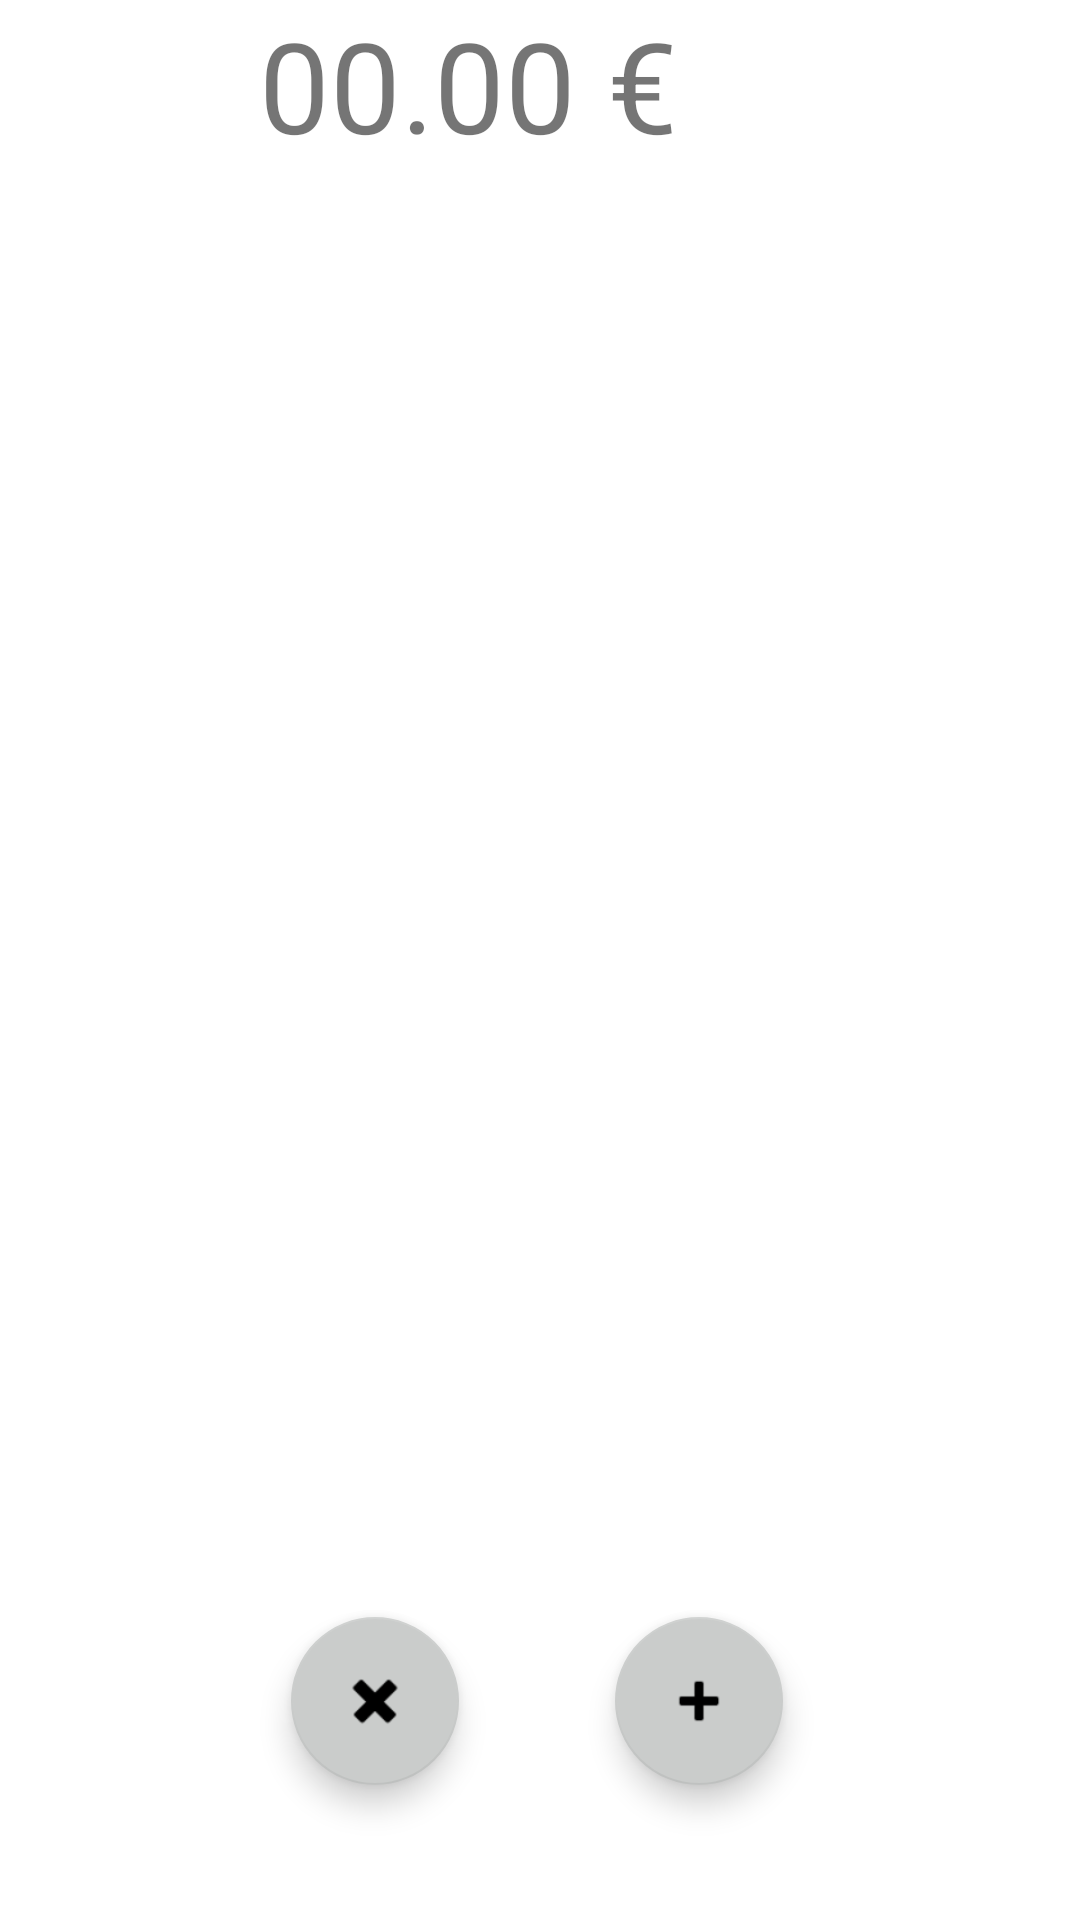

Point at icon controls on the screen. Image size 1080w x 1920h, points as (x,y).
add: (699,1701)
delete: (375,1701)
